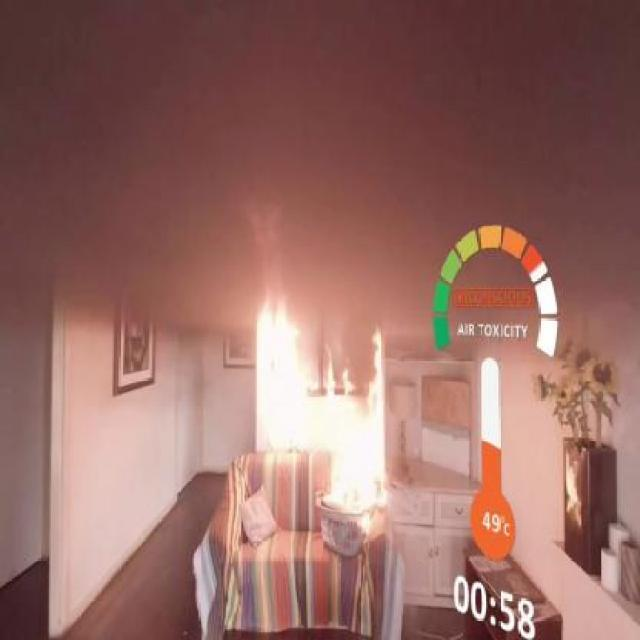fire: (251, 286, 397, 534)
smoke: (100, 29, 414, 318)
